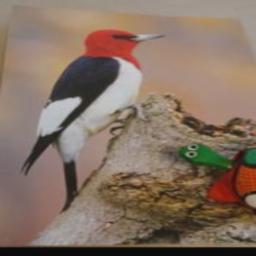Woodpecker: (19, 26, 164, 213)
